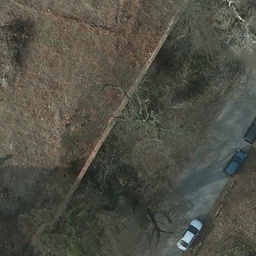car: (178, 218, 201, 251), (224, 149, 247, 174)
